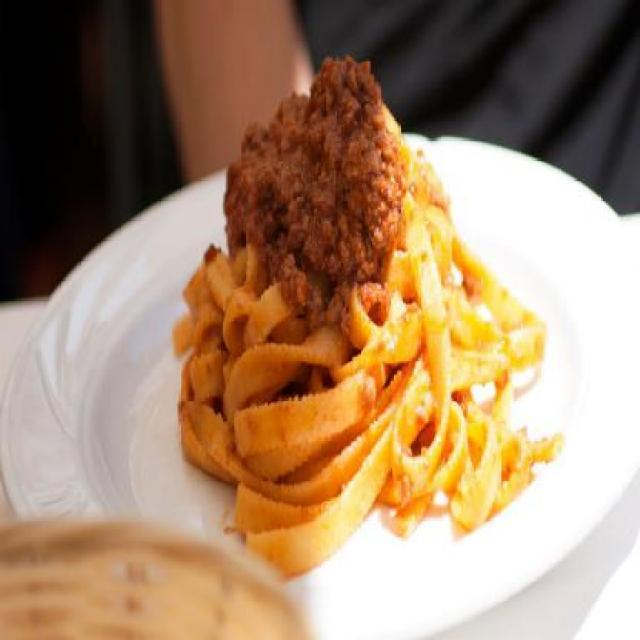Pasta al ragu: (162, 11, 568, 564)
